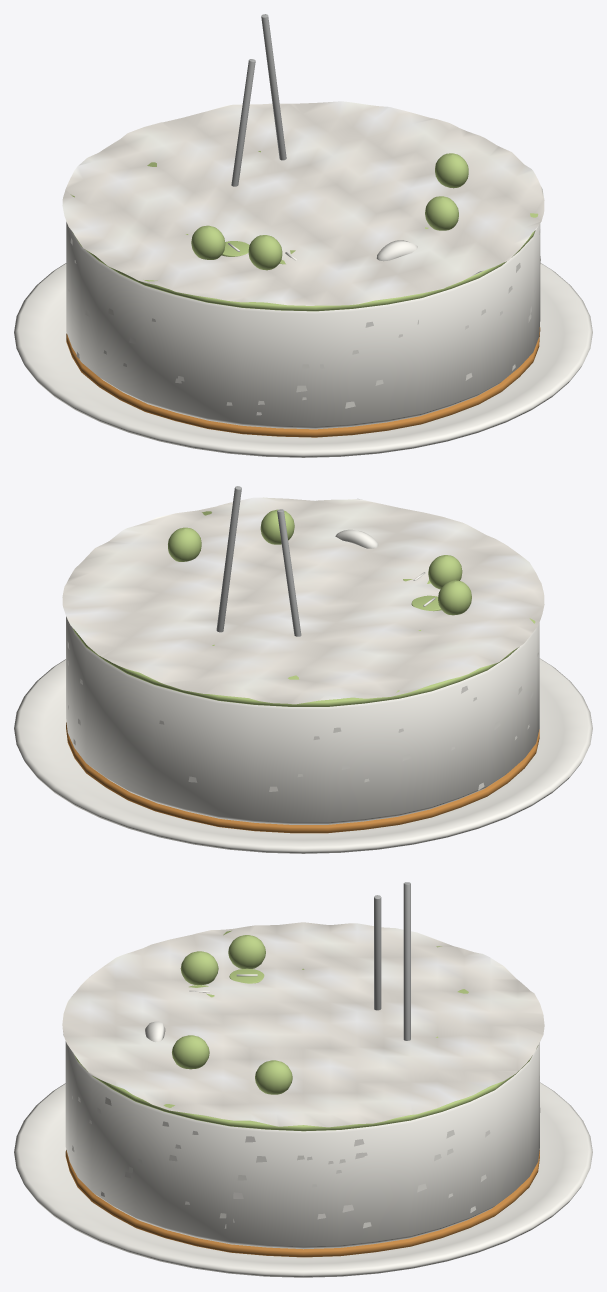
The model's file is cake-20.771df03a7d89--HDnXTRj.glb.
The picture shows the model from 3 angles, top to bottom: view 1: azimuth 30°, elevation 25°; view 2: azimuth 150°, elevation 25°; view 3: azimuth 270°, elevation 25°; orthographic projection.
Parts seen in each view (by area): view 1: Irregular_hand_spread_food_surface, PART_FOOD_ROOT_MAT_cream, Clean_porcelain_plate, PART_FOOD_ROOT_MAT_grape, Exposed_thin_sponge_base, Fine_silver_stick_1, Fine_silver_stick_0; view 2: Irregular_hand_spread_food_surface, PART_FOOD_ROOT_MAT_cream, Clean_porcelain_plate, PART_FOOD_ROOT_MAT_grape, Exposed_thin_sponge_base, Fine_silver_stick_1, Fine_silver_stick_0; view 3: Irregular_hand_spread_food_surface, PART_FOOD_ROOT_MAT_cream, Clean_porcelain_plate, PART_FOOD_ROOT_MAT_grape, Exposed_thin_sponge_base, Fine_silver_stick_1, Fine_silver_stick_0.
Boxes of the visible parts, x1,y1,x2,y2 form: Irregular_hand_spread_food_surface: (62, 101, 544, 305); PART_FOOD_ROOT_MAT_cream: (66, 222, 540, 429); Clean_porcelain_plate: (14, 263, 592, 457); PART_FOOD_ROOT_MAT_grape: (70, 151, 538, 311); Exposed_thin_sponge_base: (66, 327, 540, 437); Fine_silver_stick_1: (261, 14, 286, 160); Fine_silver_stick_0: (231, 59, 255, 186); Irregular_hand_spread_food_surface: (62, 497, 544, 704); PART_FOOD_ROOT_MAT_cream: (66, 529, 539, 824); Clean_porcelain_plate: (14, 658, 592, 853); PART_FOOD_ROOT_MAT_grape: (73, 509, 535, 706); Exposed_thin_sponge_base: (66, 722, 539, 833); Fine_silver_stick_1: (216, 486, 241, 632); Fine_silver_stick_0: (277, 509, 301, 636); Irregular_hand_spread_food_surface: (62, 922, 544, 1127); PART_FOOD_ROOT_MAT_cream: (65, 974, 540, 1249); Clean_porcelain_plate: (14, 1082, 592, 1277); PART_FOOD_ROOT_MAT_grape: (74, 930, 538, 1131); Exposed_thin_sponge_base: (65, 1150, 539, 1257); Fine_silver_stick_1: (403, 882, 410, 1040); Fine_silver_stick_0: (374, 895, 381, 1010).
Bounding box in the file's own units: 0.1952 × 0.1077 × 0.1952.
